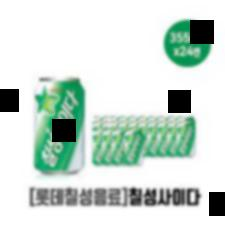chilsungcider: (31, 75, 88, 175)
